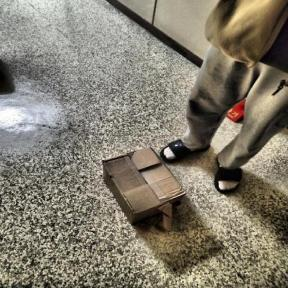box: (96, 143, 192, 232)
